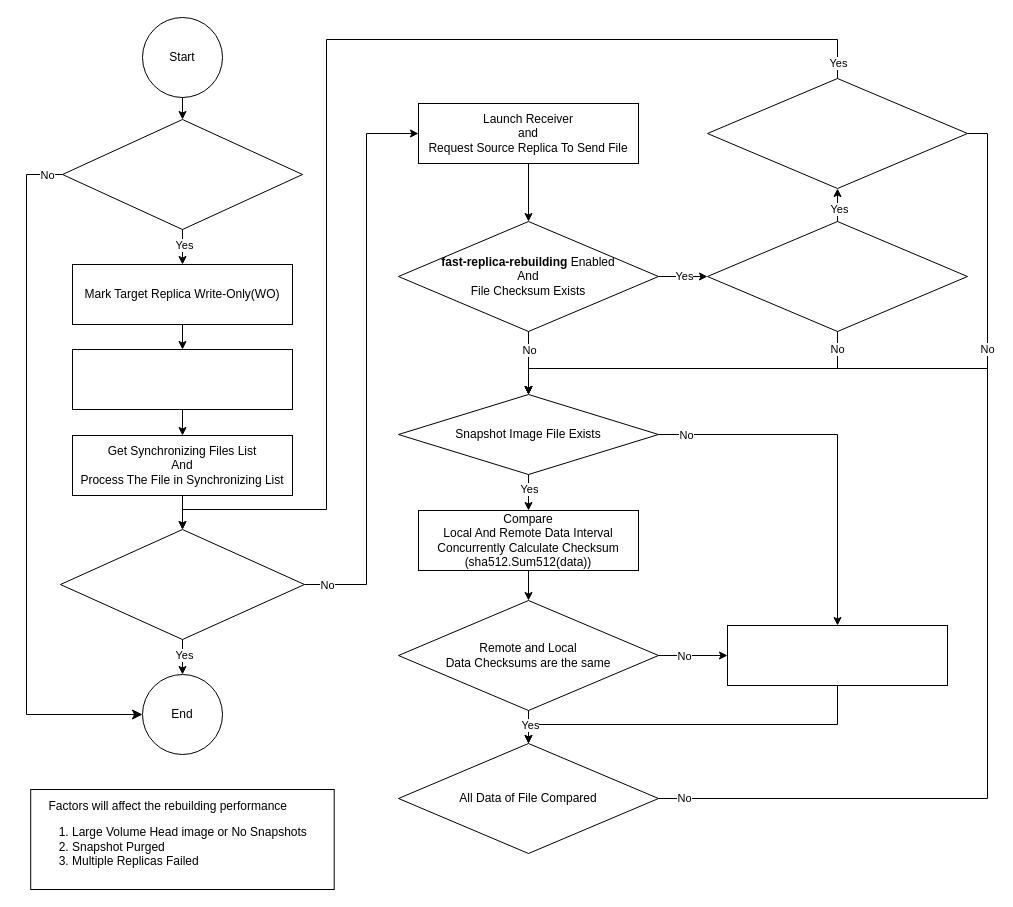
This 1013x907 diagram has some shape labels left out. Each missing label, with the centre of its shape:
All Files Are Synchronized: point (182, 584)
Need Replica Rebuilding: point (182, 174)
Remote and Local File Checksums Are The Same: point (837, 133)
Remote Checksum File Exists And ChangeTime Exists: point (837, 276)
Send data to Launch Receiver: point (837, 655)
Take a New Snapshot For Volume Head Image: point (182, 379)
